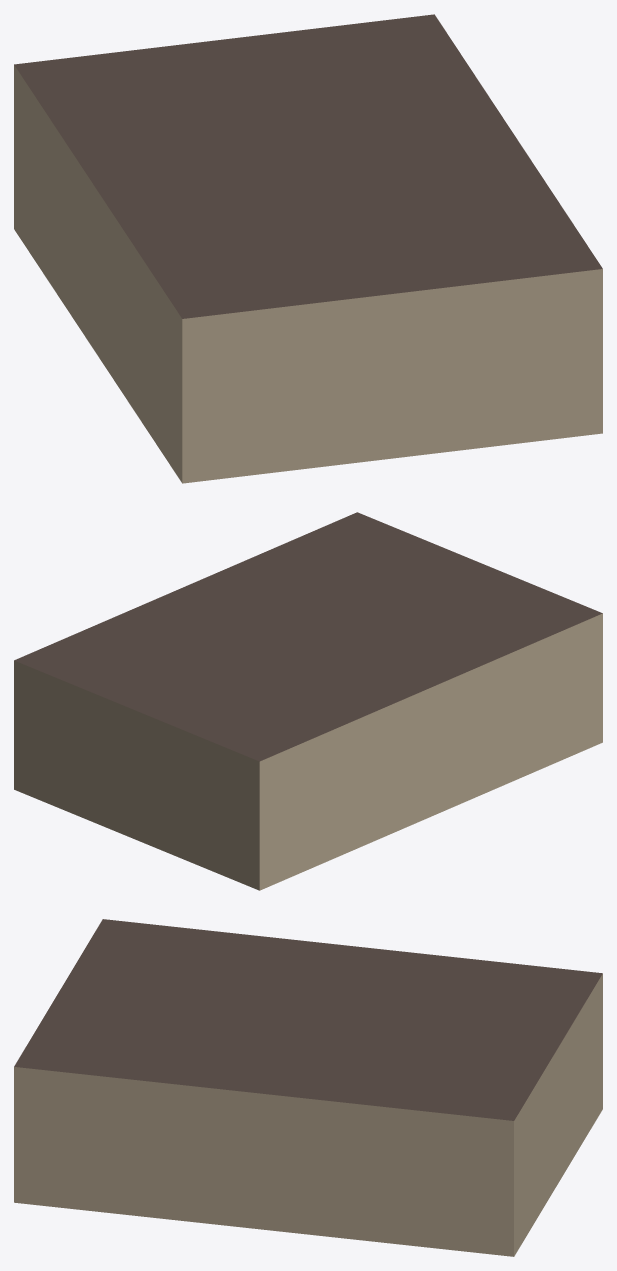
3 views of the same model, one above another, from view 1: azimuth 30°, elevation 25°; view 2: azimuth 150°, elevation 25°; view 3: azimuth 270°, elevation 25° (orthographic). The views are drawn at different scales.
Visible parts, largest first — view 1: HP-w765568191; view 2: HP-w765568191; view 3: HP-w765568191.
Boxes of the visible parts, x1,y1,x2,y2 form: HP-w765568191: (14,14,602,483); HP-w765568191: (14,512,602,890); HP-w765568191: (14,919,602,1256).
Size of the model in its own units: 28.69 by 9 by 35.36.
